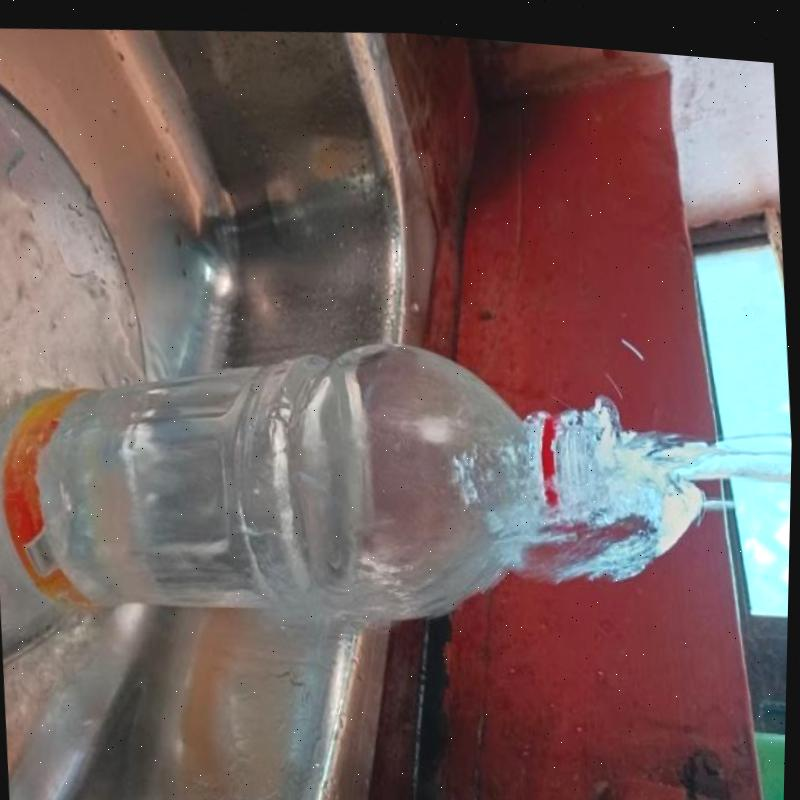botella: (0, 295, 602, 639)
